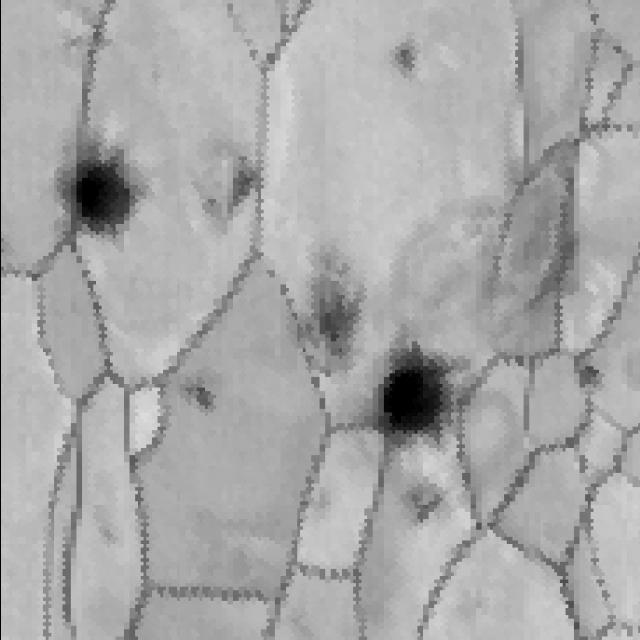good_void: (479, 171, 584, 345), (289, 271, 365, 379), (367, 352, 450, 439), (62, 157, 132, 235), (176, 362, 232, 436), (63, 1, 119, 69), (223, 155, 249, 216), (403, 487, 444, 521), (388, 42, 414, 79), (571, 367, 597, 395), (200, 191, 221, 216)
